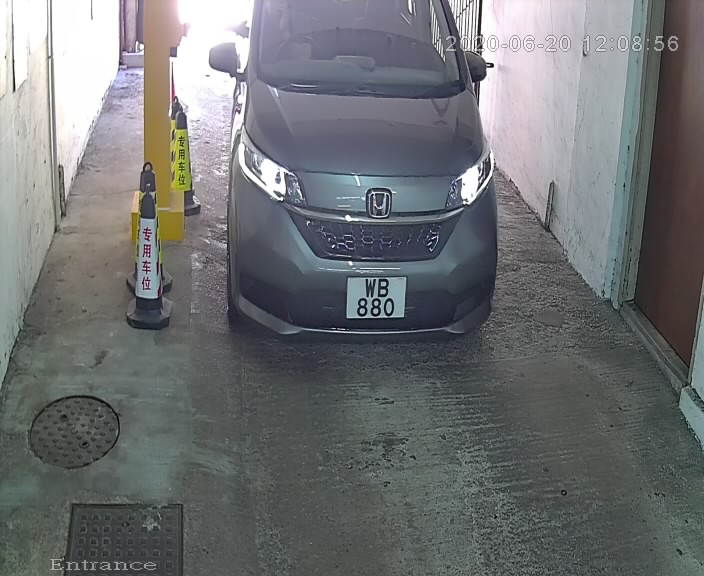privatecar: (202, 3, 521, 372)
